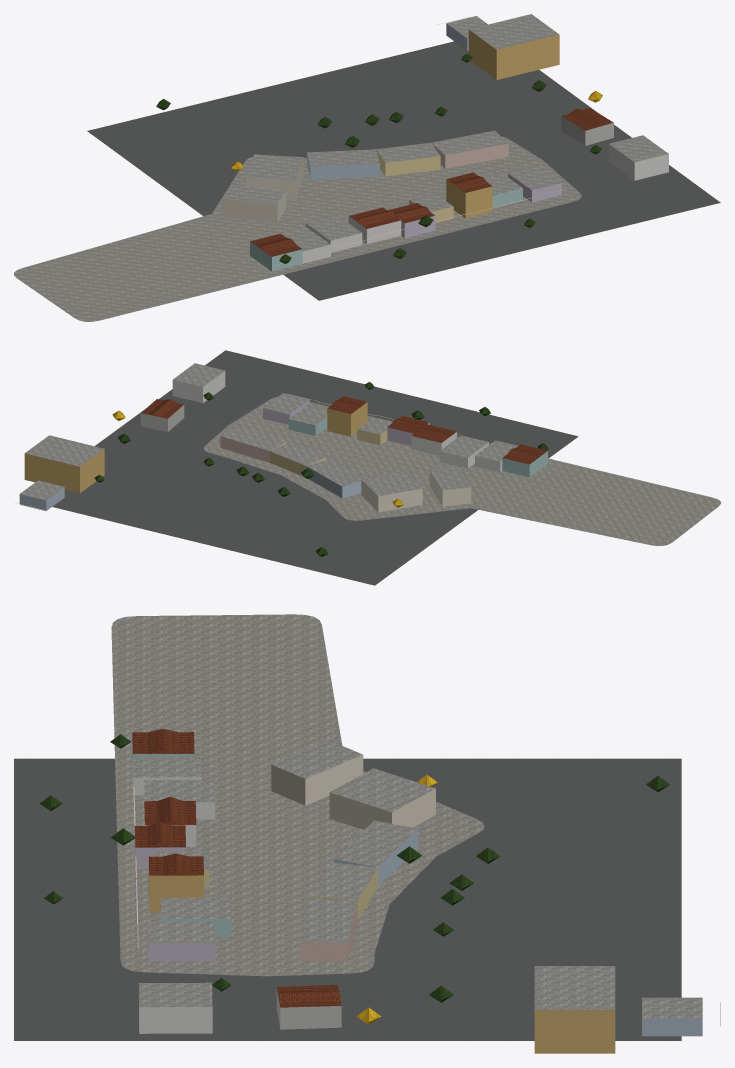
File: cidade_S01_02_lod.gltf
3 renders of one model, top to bottom at view 1: azimuth 30°, elevation 25°; view 2: azimuth 150°, elevation 25°; view 3: azimuth 270°, elevation 25°, orthographic. The views are drawn at different scales.
Visible parts, largest first — view 1: S01_02_Chao_LOD2, S01_02_Edificios_LOD1, S01_02_Silhueta_LOD2, S01_02_Vegetacao_LOD2; view 2: S01_02_Chao_LOD2, S01_02_Edificios_LOD1, S01_02_Silhueta_LOD2, S01_02_Vegetacao_LOD2; view 3: S01_02_Chao_LOD2, S01_02_Edificios_LOD1, S01_02_Silhueta_LOD2, S01_02_Vegetacao_LOD2.
Part boxes in pixels (bbox=[...]): S01_02_Chao_LOD2: bbox=[14, 41, 720, 321]; S01_02_Edificios_LOD1: bbox=[222, 14, 668, 271]; S01_02_Silhueta_LOD2: bbox=[250, 108, 613, 270]; S01_02_Vegetacao_LOD2: bbox=[156, 53, 602, 263]; S01_02_Chao_LOD2: bbox=[52, 350, 720, 585]; S01_02_Edificios_LOD1: bbox=[14, 363, 547, 512]; S01_02_Silhueta_LOD2: bbox=[140, 396, 547, 476]; S01_02_Vegetacao_LOD2: bbox=[94, 382, 548, 556]; S01_02_Chao_LOD2: bbox=[14, 614, 681, 1040]; S01_02_Edificios_LOD1: bbox=[132, 729, 720, 1053]; S01_02_Silhueta_LOD2: bbox=[132, 732, 341, 1029]; S01_02_Vegetacao_LOD2: bbox=[39, 734, 669, 1024].
Size of the model in its own units: 156 by 7.37 by 106.
17 materials, 17 textured.
